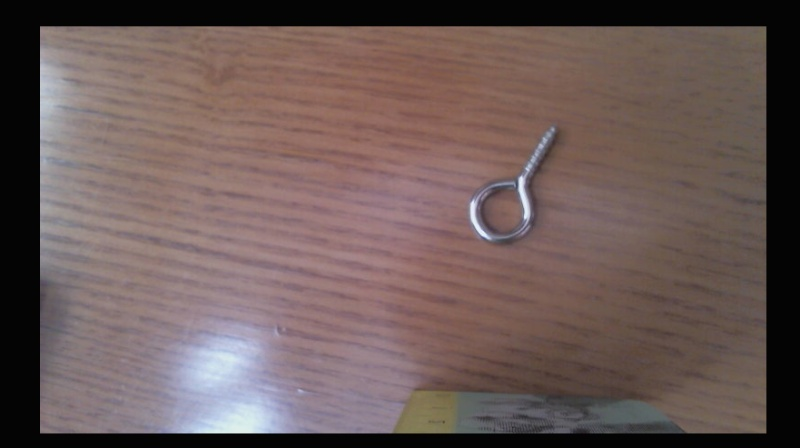O001: (465, 122, 561, 248)
